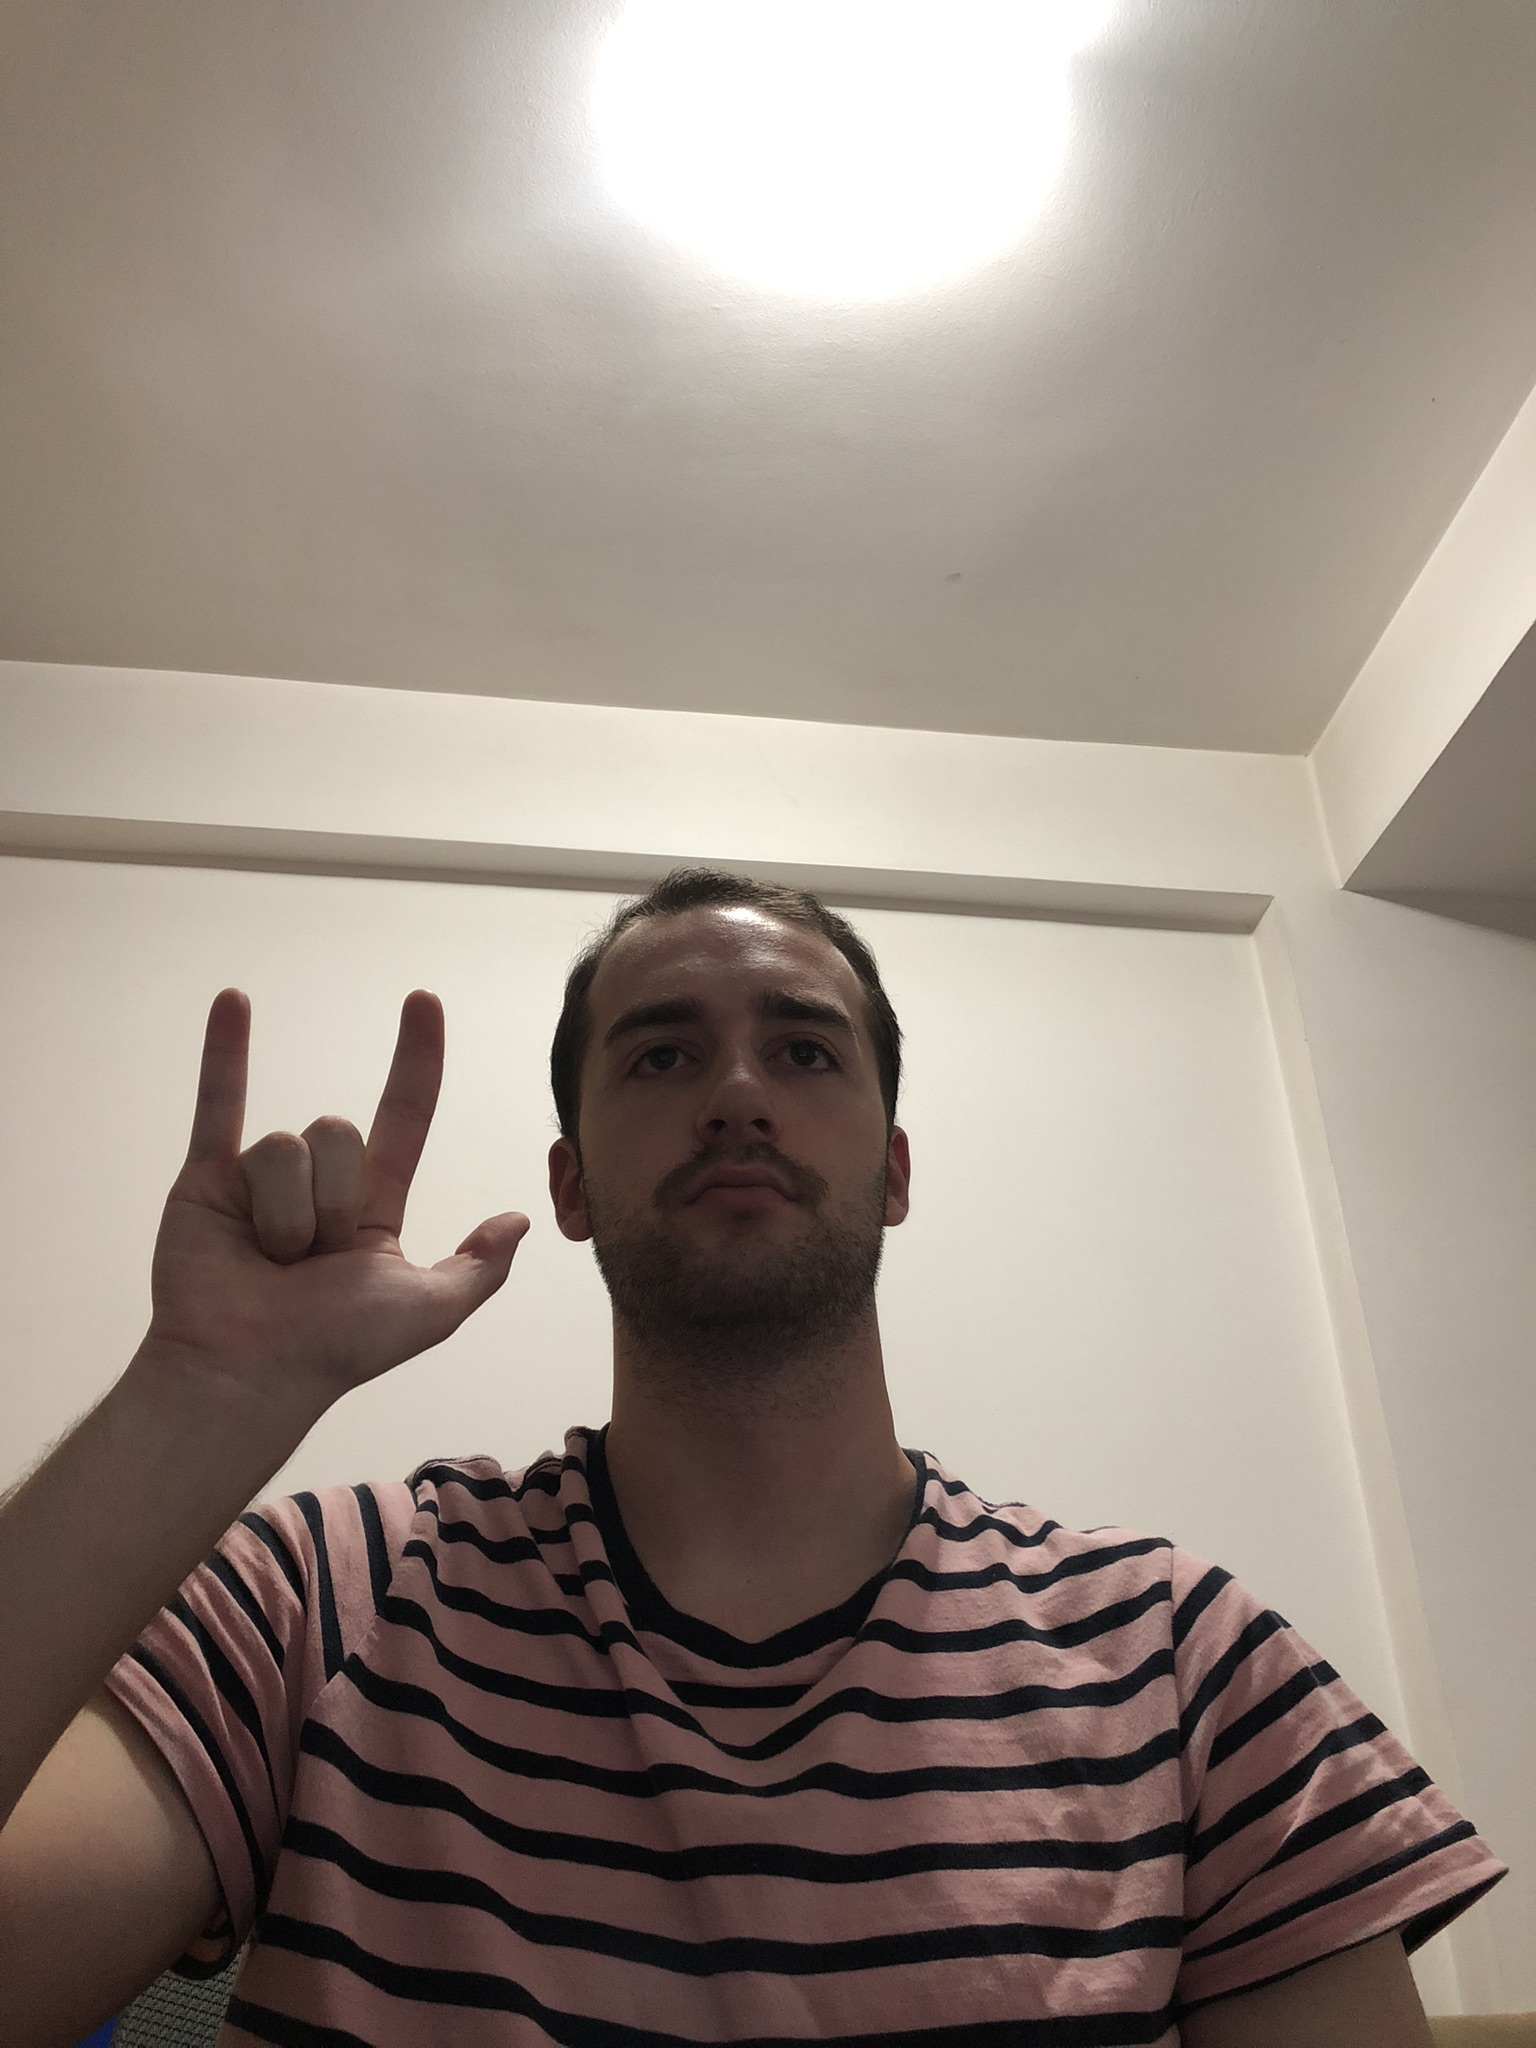I Love You: (124, 977, 537, 1414)
